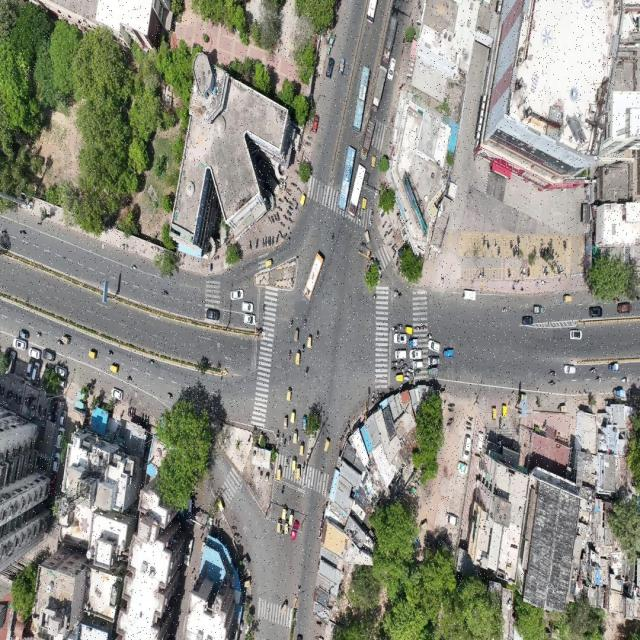3W: (106, 359, 119, 375), (300, 412, 310, 432), (612, 385, 626, 399), (322, 435, 332, 454), (443, 347, 456, 361), (285, 384, 294, 404), (338, 56, 346, 78), (532, 301, 544, 315), (607, 361, 621, 373), (563, 292, 574, 306), (490, 401, 497, 422), (501, 401, 508, 422), (275, 461, 282, 482), (305, 333, 313, 351), (264, 257, 276, 269), (86, 348, 97, 361), (289, 506, 296, 526), (364, 230, 373, 245), (294, 326, 301, 344), (299, 440, 306, 458), (392, 373, 404, 383), (280, 505, 288, 520), (296, 463, 302, 483), (282, 412, 289, 429), (404, 323, 413, 336), (290, 408, 297, 424), (299, 193, 307, 207), (361, 197, 368, 213), (295, 349, 301, 367), (275, 515, 281, 533), (370, 154, 376, 172), (363, 172, 369, 189), (427, 368, 439, 376), (408, 339, 420, 347), (291, 454, 296, 470), (293, 427, 297, 445), (285, 521, 289, 536)
Bus: (301, 250, 327, 304), (351, 65, 370, 135), (337, 145, 356, 214)
Cars: (443, 503, 460, 530), (585, 300, 604, 320), (461, 434, 474, 461), (52, 427, 66, 449), (460, 285, 477, 302), (203, 306, 222, 321), (56, 406, 70, 426), (227, 285, 245, 300), (111, 384, 125, 403), (52, 452, 62, 477), (564, 361, 577, 380), (292, 519, 301, 546), (569, 326, 582, 344), (326, 57, 335, 81), (427, 339, 442, 353), (387, 58, 396, 81), (312, 112, 321, 134), (52, 363, 66, 377), (41, 348, 56, 361), (243, 315, 259, 327), (391, 333, 408, 344), (521, 315, 534, 329), (13, 339, 27, 350), (24, 359, 32, 377), (393, 348, 407, 358), (241, 303, 256, 312), (33, 362, 40, 379), (29, 348, 40, 358), (409, 350, 421, 359), (413, 362, 425, 369)
M2W: (391, 287, 402, 301), (158, 285, 169, 299), (313, 324, 321, 343), (20, 225, 30, 238), (438, 271, 446, 286), (561, 238, 568, 254), (125, 373, 135, 384), (128, 261, 138, 271), (499, 306, 508, 317), (166, 389, 175, 400), (302, 314, 308, 330), (304, 364, 310, 380), (550, 367, 559, 377), (146, 357, 155, 367), (497, 413, 502, 430), (275, 424, 280, 441), (285, 454, 290, 471), (289, 315, 295, 329), (466, 413, 475, 422), (516, 233, 522, 246), (548, 236, 554, 249), (319, 465, 325, 478), (248, 237, 253, 252), (477, 266, 482, 280), (446, 400, 456, 407), (509, 237, 514, 251), (266, 216, 273, 226), (415, 322, 421, 333), (107, 346, 113, 357), (281, 483, 286, 496), (286, 208, 294, 216), (549, 379, 556, 388), (589, 364, 596, 373), (595, 375, 602, 384), (276, 204, 283, 213), (287, 349, 292, 361), (422, 320, 427, 332), (403, 373, 409, 383), (288, 431, 292, 446), (330, 232, 335, 244), (508, 266, 512, 280), (390, 324, 398, 331), (295, 156, 302, 164), (539, 236, 544, 247), (447, 416, 456, 422), (302, 342, 306, 355), (493, 238, 497, 251), (519, 266, 523, 279), (541, 264, 545, 277), (556, 263, 560, 276), (383, 230, 388, 240), (466, 425, 473, 432), (290, 180, 297, 187), (306, 133, 313, 140), (276, 233, 280, 245), (285, 190, 291, 198), (288, 217, 294, 225), (256, 237, 259, 252), (265, 235, 268, 250), (284, 437, 288, 448), (391, 359, 397, 366), (371, 207, 374, 221), (387, 221, 393, 228), (280, 219, 285, 227), (374, 189, 378, 199), (296, 188, 302, 194), (305, 141, 311, 147), (294, 169, 300, 175), (372, 294, 378, 300), (448, 407, 455, 412), (483, 234, 486, 244), (400, 359, 405, 365), (272, 235, 274, 250), (358, 206, 361, 216), (382, 220, 387, 226), (388, 228, 392, 235), (392, 252, 396, 259), (358, 216, 361, 225), (388, 241, 392, 247)
Truck: (347, 162, 366, 222), (379, 15, 401, 63), (360, 117, 382, 163), (372, 64, 388, 115)
